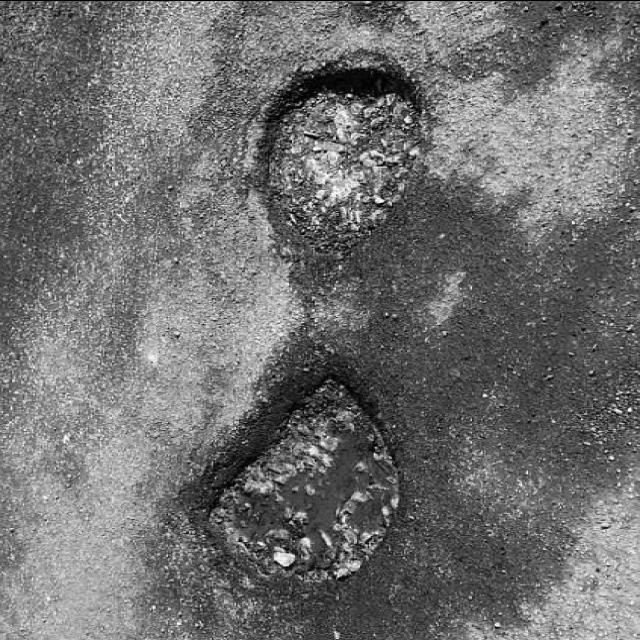jalan retak: (190, 1, 266, 168)
lubang: (168, 364, 400, 590), (254, 46, 437, 252), (436, 2, 632, 88), (329, 1, 428, 36)
